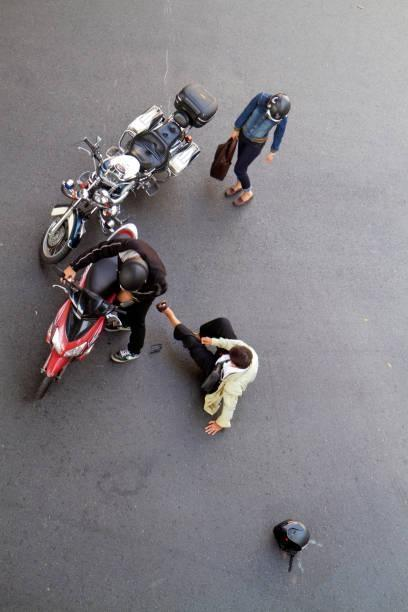Motorcycle: (38, 238, 146, 376), (59, 105, 176, 215)
